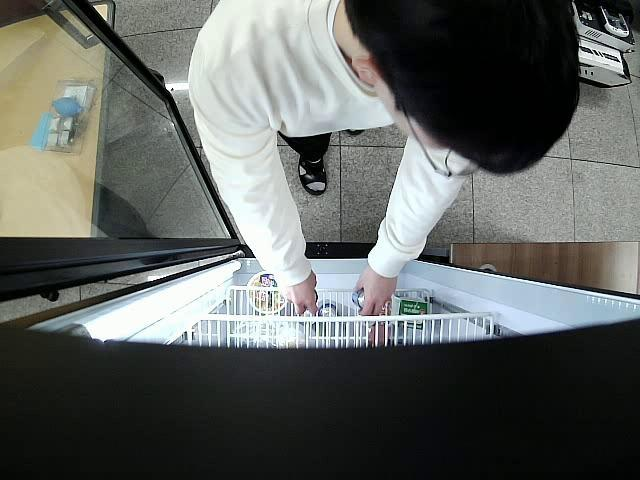15_letsbe: (352, 287, 366, 307)
